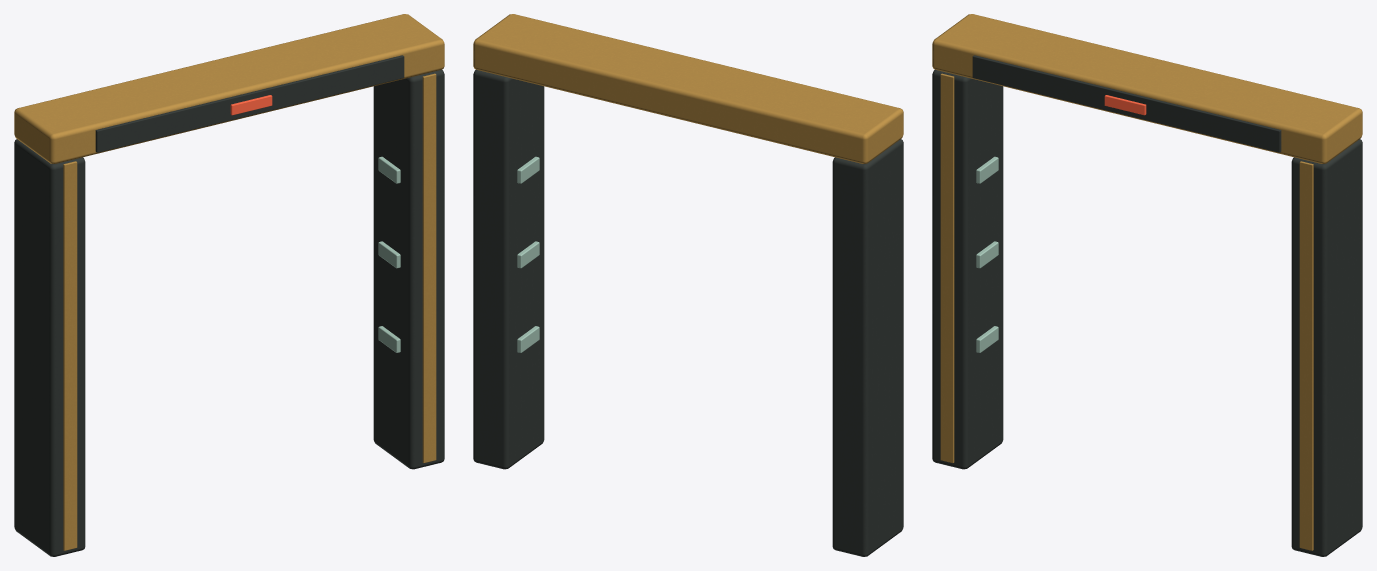
File: security-arch-broken.glb
The picture shows the model from 3 angles, left to right: view 1: azimuth 30°, elevation 25°; view 2: azimuth 150°, elevation 25°; view 3: azimuth 330°, elevation 25°; orthographic projection.
Parts seen in each view (by area): view 1: scanner_post (×2), scanner_header, scanner_stripe (×2), scanner_header_insert; view 2: scanner_post (×2), scanner_header; view 3: scanner_post (×2), scanner_header, scanner_stripe (×2), scanner_header_insert.
Part boxes in pixels (x1,y1,x2,y2): scanner_post (×2): (14,69,444,556); scanner_header: (14,14,444,163); scanner_stripe (×2): (63,73,436,550); scanner_header_insert: (95,55,404,152); scanner_post (×2): (473,69,903,556); scanner_header: (473,14,903,163); scanner_post (×2): (932,69,1362,556); scanner_header: (932,14,1362,163); scanner_stripe (×2): (940,73,1313,550); scanner_header_insert: (972,55,1281,152).
Size of the model in its own units: 2.44 by 2.5 by 0.454.
4 materials, 2 textured.
